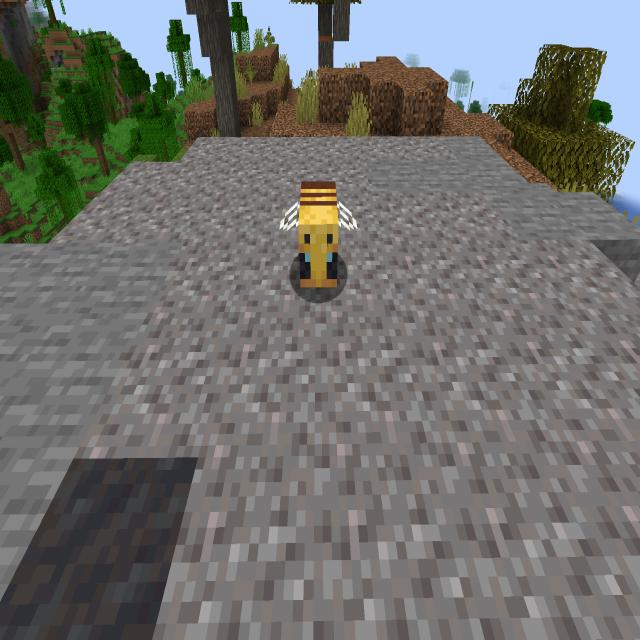bee: (274, 166, 366, 309)
